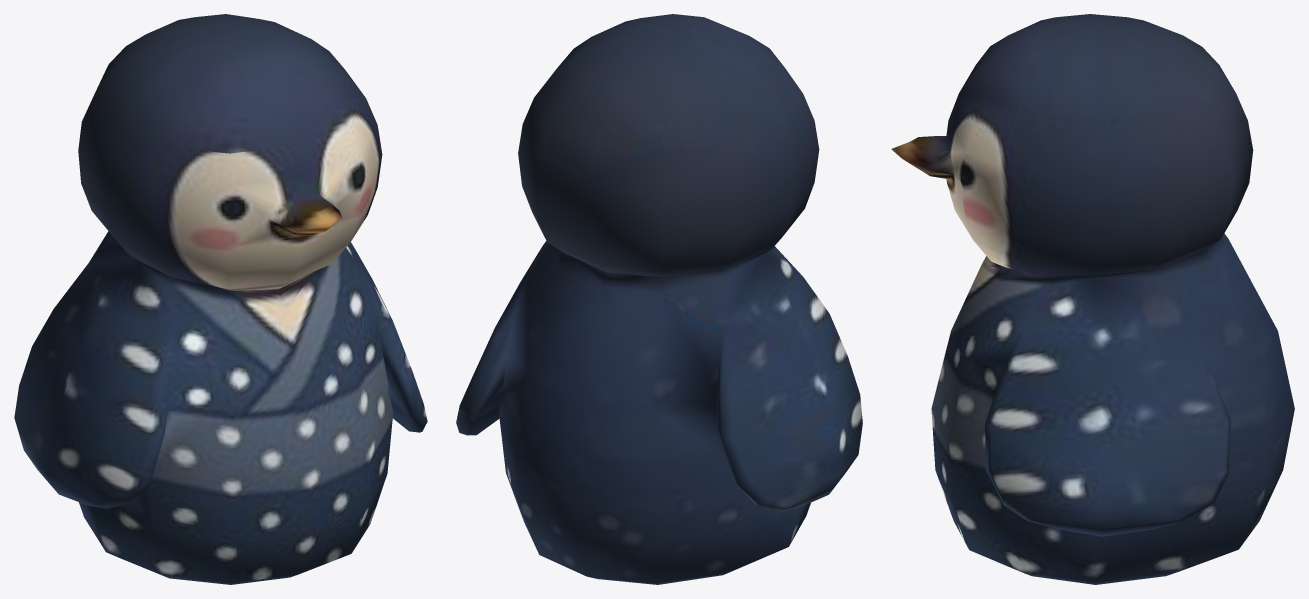
File: penguin-08-23-snow-dot-kokeshi-penguin.gltf
The picture shows the model from 3 angles, left to right: view 1: azimuth 30°, elevation 25°; view 2: azimuth 150°, elevation 25°; view 3: azimuth 270°, elevation 25°; orthographic projection.
Parts seen in each view (by area): view 1: penguin-08-23-snow-dot-kokeshi-penguin; view 2: penguin-08-23-snow-dot-kokeshi-penguin; view 3: penguin-08-23-snow-dot-kokeshi-penguin.
Part boxes in pixels (box(x1,y1,x2,y2)): penguin-08-23-snow-dot-kokeshi-penguin: box(14, 14, 427, 584); penguin-08-23-snow-dot-kokeshi-penguin: box(456, 14, 862, 584); penguin-08-23-snow-dot-kokeshi-penguin: box(891, 14, 1294, 584).
Bounding box in the file's own units: 0.2 × 0.2732 × 0.1975.
1 material, 1 textured.
